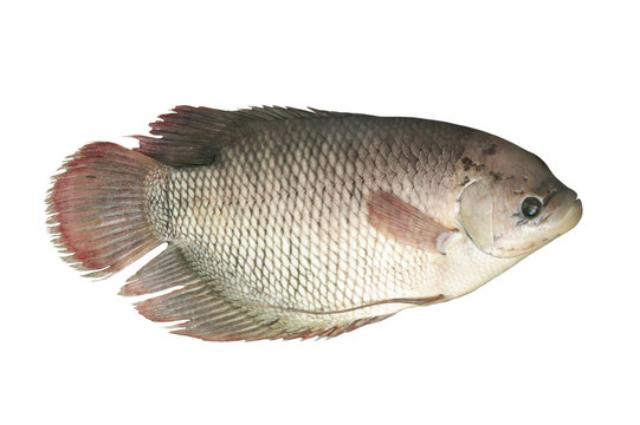Mulut: (520, 167, 608, 241)
Sirip Anal: (110, 236, 386, 358)
Sirip Dada: (352, 178, 472, 268)
Sirip Ekor: (36, 136, 186, 290)
Sirip Punggung: (120, 96, 346, 176)
